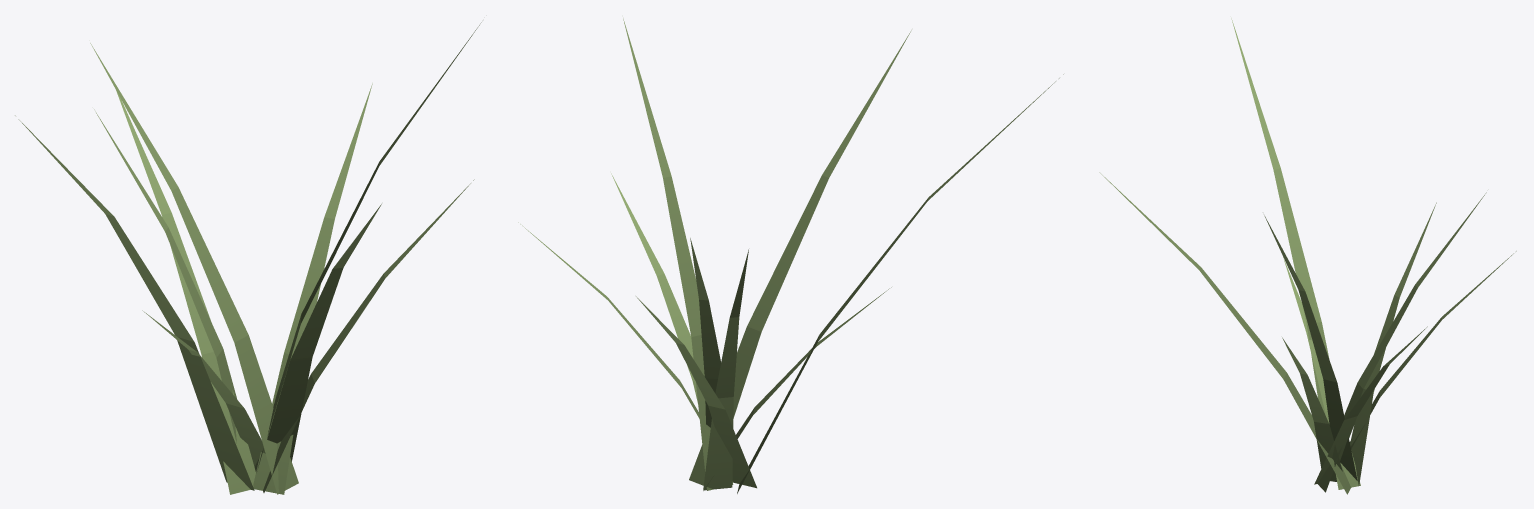
File: grass_4.glb
3 views of the same model, side by side, from view 1: azimuth 30°, elevation 25°; view 2: azimuth 150°, elevation 25°; view 3: azimuth 270°, elevation 25° (orthographic). The views are drawn at different scales.
Visible parts, largest first — view 1: grass_4.001; view 2: grass_4.001; view 3: grass_4.001.
Part boxes in pixels (x1,y1,x2,y2): grass_4.001: (15, 22, 481, 494); grass_4.001: (518, 18, 1063, 493); grass_4.001: (1099, 18, 1516, 494).
Size of the model in its own units: 0.8266 by 0.7948 by 0.8563.
